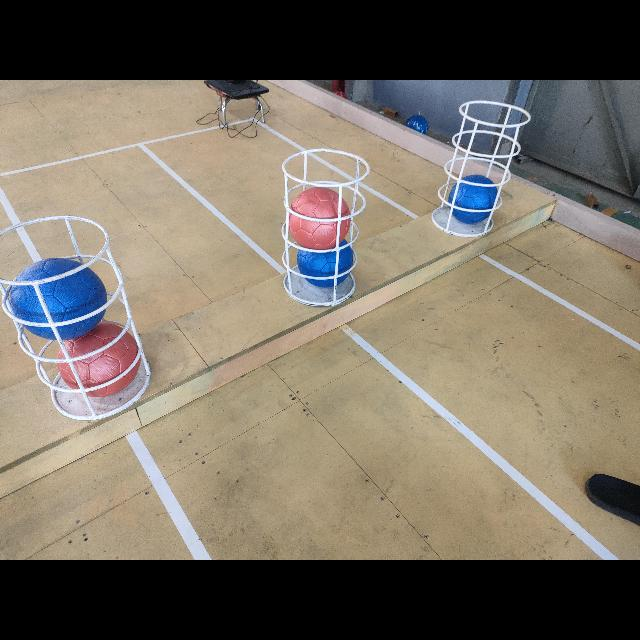B: (9, 256, 106, 340), (448, 173, 499, 224), (298, 249, 354, 287)
R: (55, 328, 141, 398), (286, 188, 352, 248)
